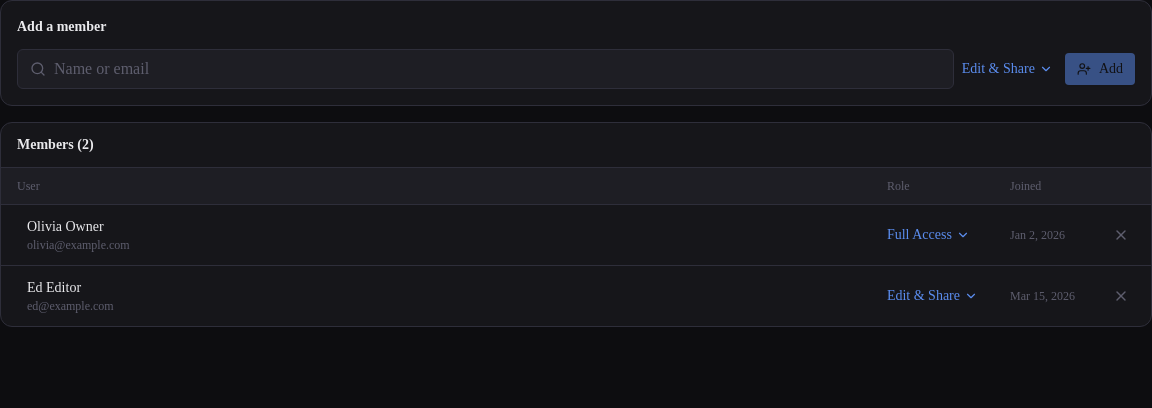
Test case: adding a member › shows why an add failed
Expected: the heading "Members (2)" is shown, [1,123,1151,168]
Type "ni" into the field named "Find people by name or email". click: (497, 69)
box: [54,57,941,81]
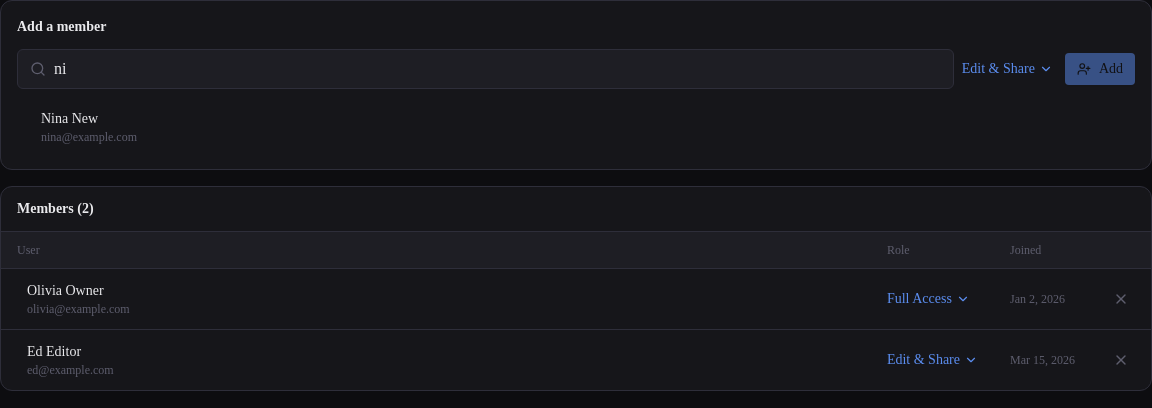
Click the text "Nina New". click: (70, 118)
box: [41,111,98,126]
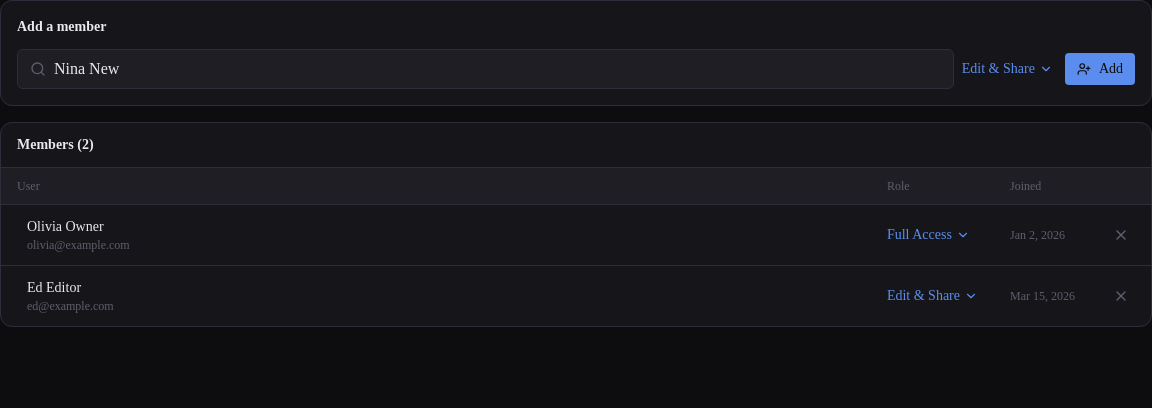
Click the button "Add". click: (1100, 69)
box: [1065,53,1135,85]
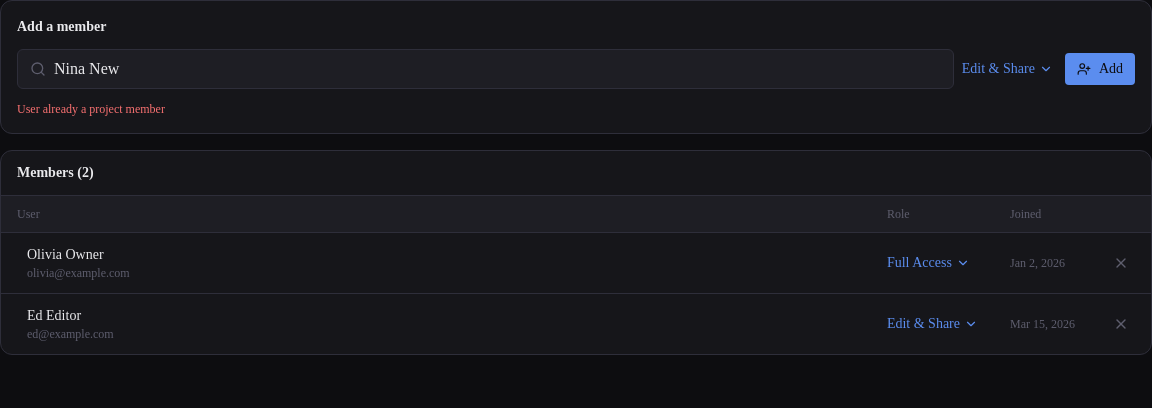
Result: the text "User already a project member" is shown at [17,102,165,116]
